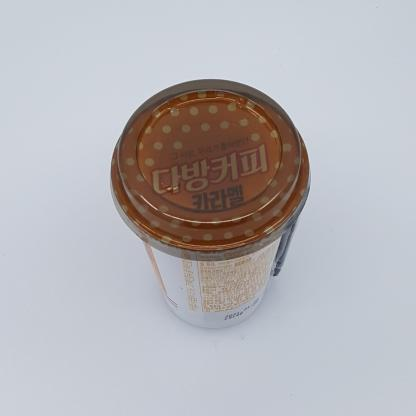---------: (110, 78, 311, 330)
